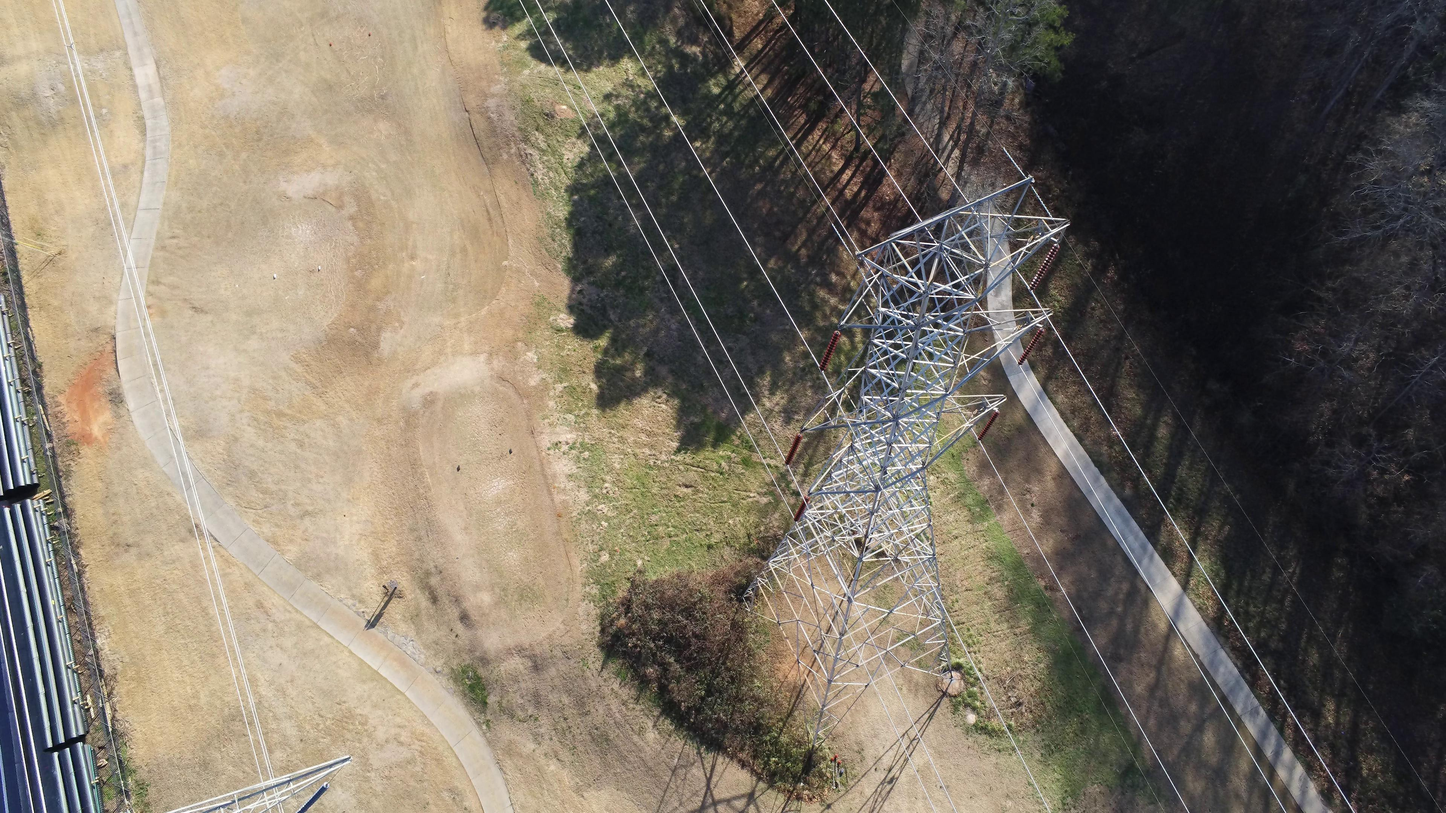power_tower: (736, 175, 1071, 780), (156, 751, 358, 811)
